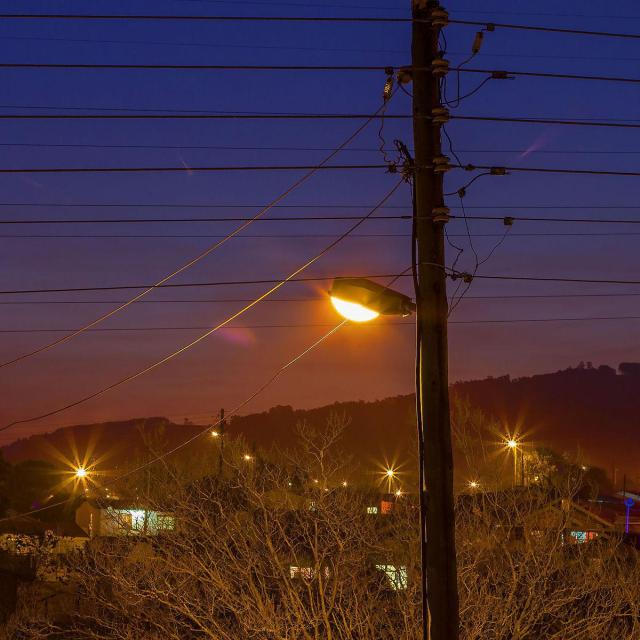other: (288, 277, 400, 330), (57, 450, 109, 489)
